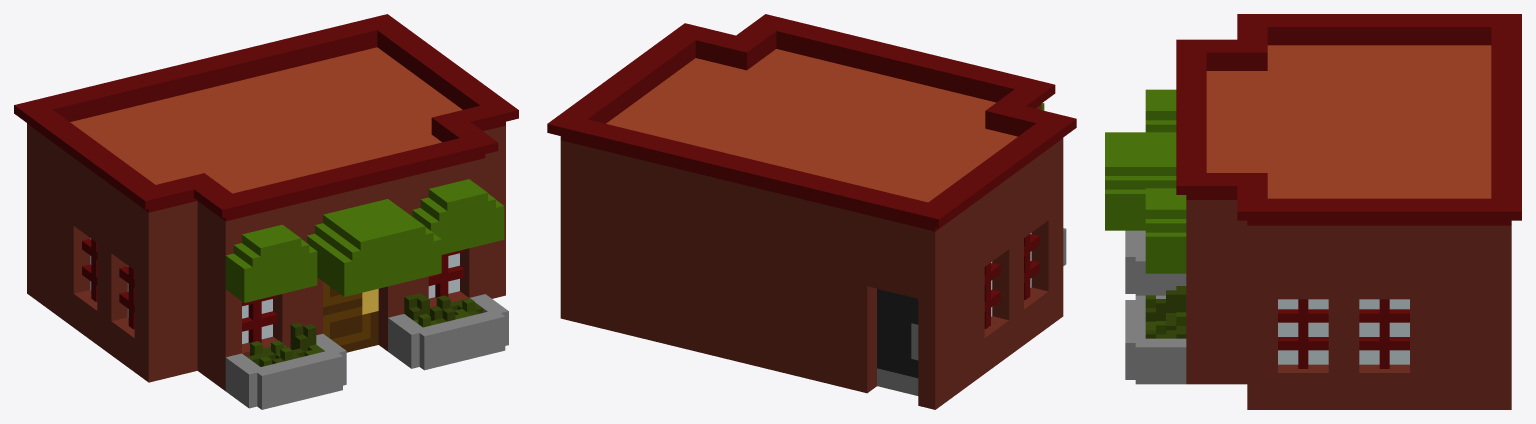
Rendered from spaghetti1.obj.
3 renders of one model, left to right at view 1: azimuth 30°, elevation 25°; view 2: azimuth 150°, elevation 25°; view 3: azimuth 270°, elevation 25°, orthographic. The views are drawn at different scales.
Visible parts, largest first — view 1: spaghetti1; view 2: spaghetti1; view 3: spaghetti1.
Boxes of the visible parts, left/top/right/bottom form: spaghetti1: left=14, top=14, right=518, bottom=409; spaghetti1: left=547, top=14, right=1076, bottom=409; spaghetti1: left=1105, top=14, right=1521, bottom=409.
Size of the model in its own units: 46 by 22 by 41.
1 material, 1 textured.
